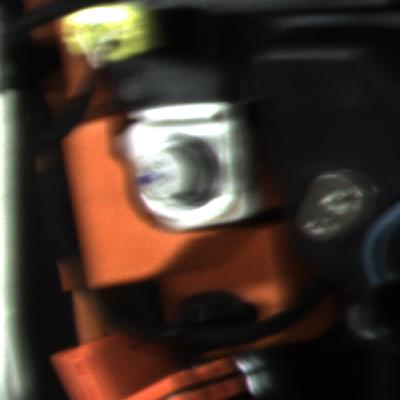nut_b: (141, 129, 229, 212)
